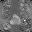people: (8, 15, 20, 25)
